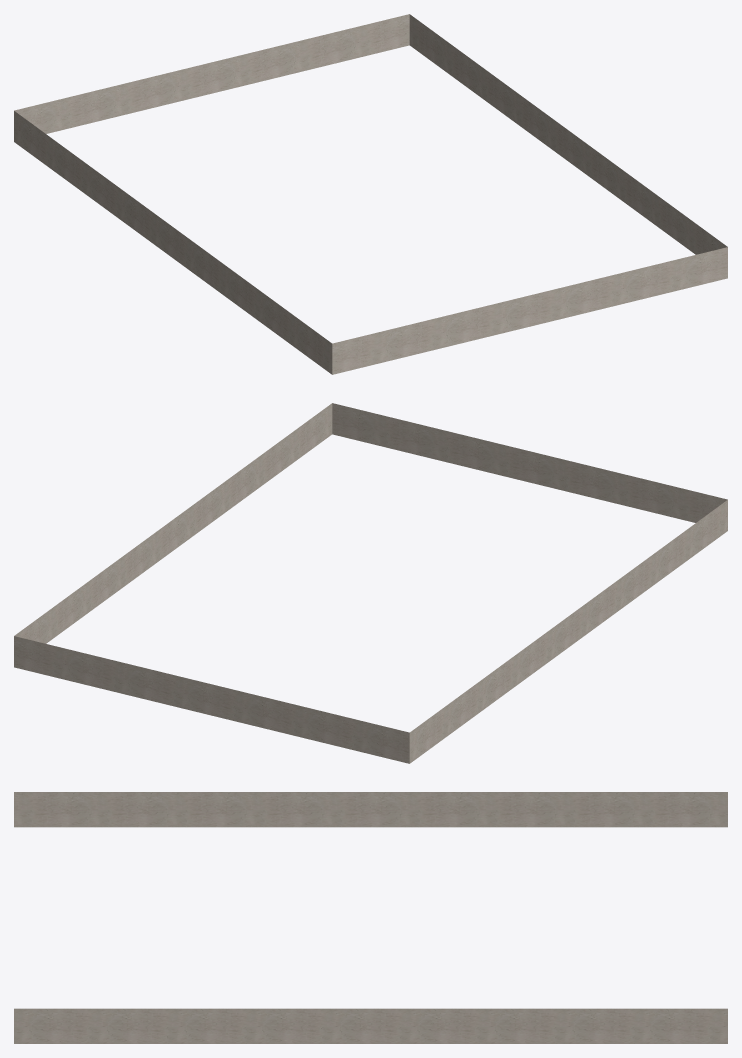
File: gold_ornament01_bump.fbx
3 views of the same model, one above another, from view 1: azimuth 30°, elevation 25°; view 2: azimuth 150°, elevation 25°; view 3: azimuth 270°, elevation 25° (orthographic). The views are drawn at different scales.
Visible parts, largest first — view 1: gold_ornament01_bump; view 2: gold_ornament01_bump; view 3: gold_ornament01_bump.
Boxes of the visible parts, box(x1,y1,x2,y2) form: gold_ornament01_bump: box(14, 14, 727, 374); gold_ornament01_bump: box(14, 403, 727, 763); gold_ornament01_bump: box(14, 792, 727, 1043).
Size of the model in its own units: 269 by 20.34 by 374.
